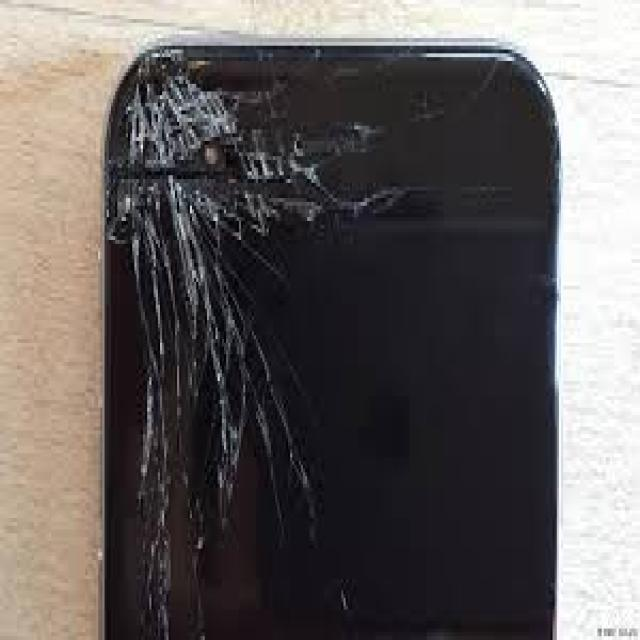mobile phone: (98, 34, 563, 636)
